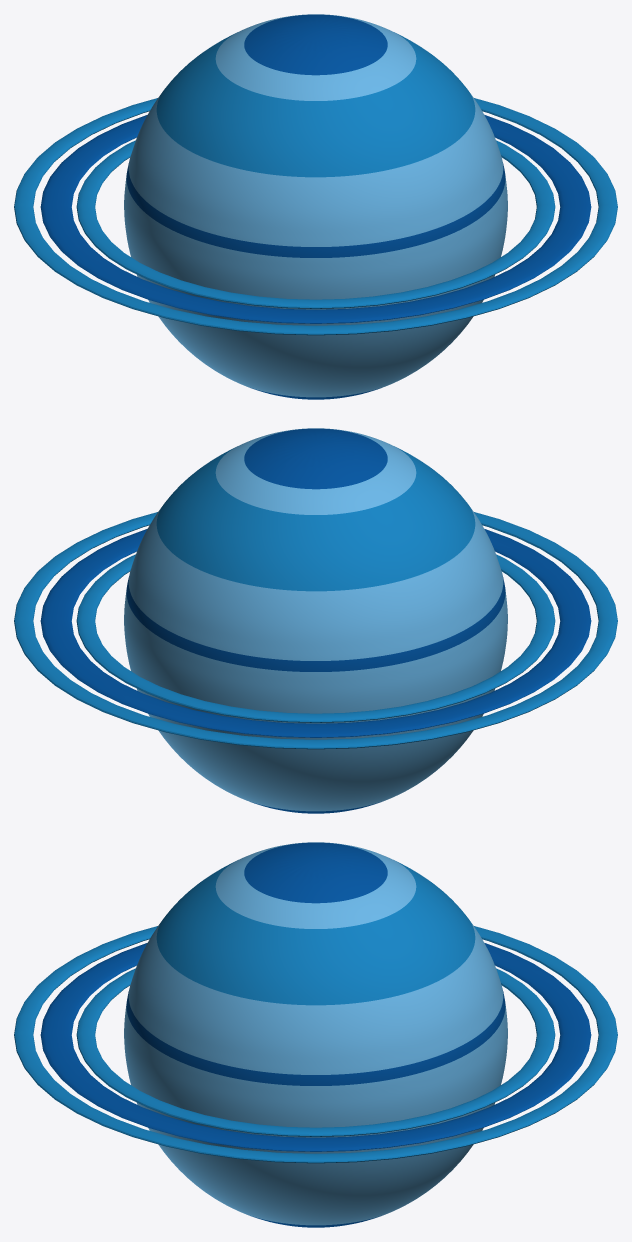
The model's file is neptune-2.glb.
3 views of the same model, one above another, from view 1: azimuth 30°, elevation 25°; view 2: azimuth 150°, elevation 25°; view 3: azimuth 270°, elevation 25° (orthographic).
Visible parts, largest first — view 1: Circle.002; view 2: Circle.002; view 3: Circle.002.
Boxes of the visible parts, box(x1,y1,x2,y2) form: Circle.002: box(14, 14, 617, 399); Circle.002: box(14, 428, 617, 813); Circle.002: box(14, 842, 617, 1227).
Size of the model in its own units: 5.07 by 3.25 by 5.07.
